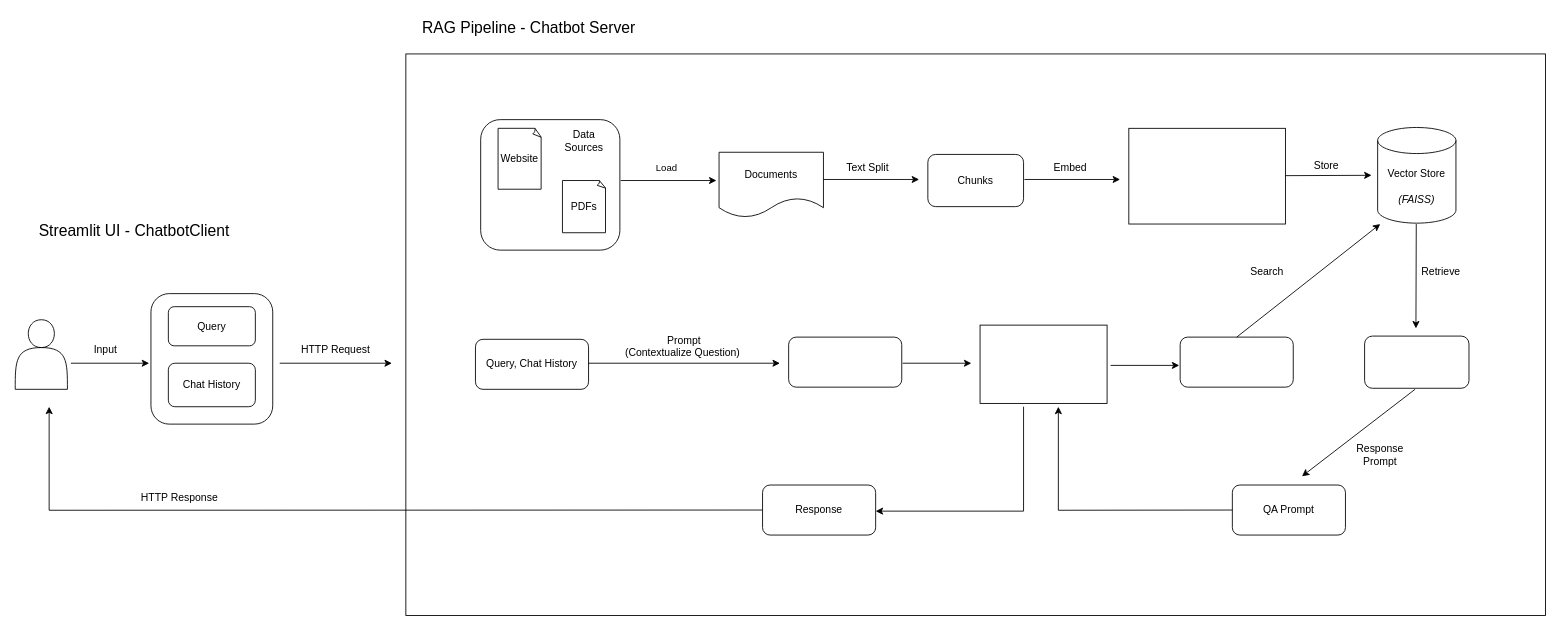
This 1561x631 diagram has some shape labels left out. Each missing label, with the centre of its shape:
"Embeddings (HuggingFace, sentence-transformers/all-MiniLM-L6-v2)" goes at point 1206,175.
"LLM (ChatGroq, llama3-8b-8192)" goes at point 1043,363.
"Relevant Context (Chunks)" goes at point 1416,361.
"Retriever Chain" goes at point 1236,361.
"Retriever Prompt" goes at point 845,361.
